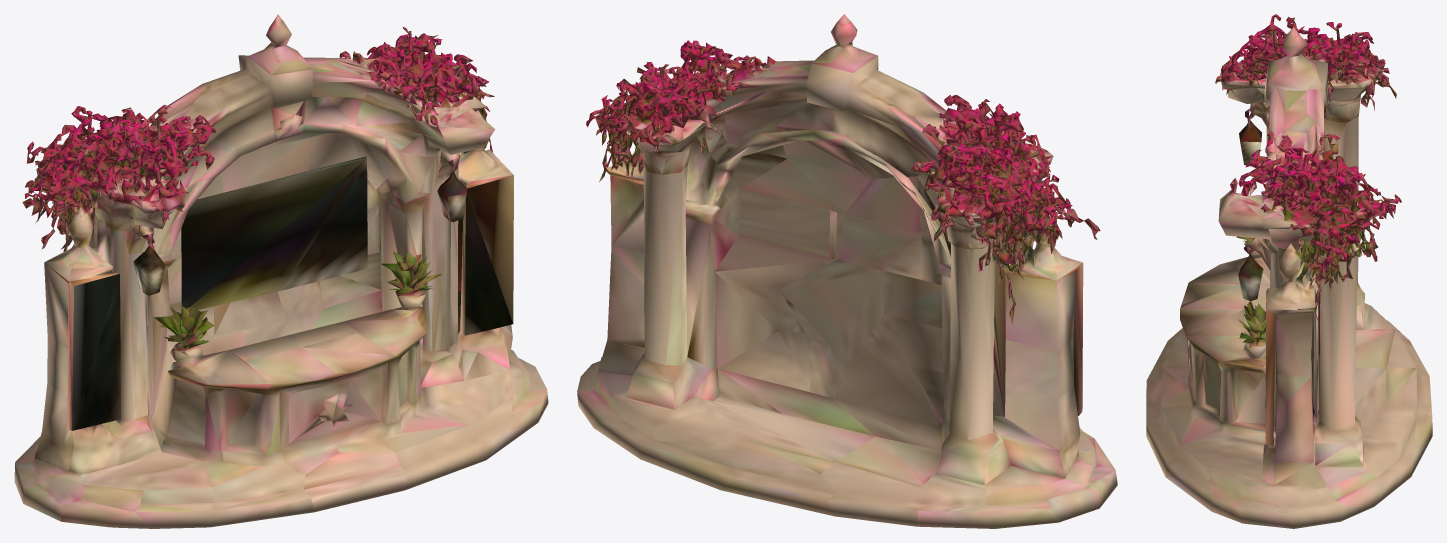
The model's file is stand-lejos.glb.
3 views of the same model, side by side, from view 1: azimuth 30°, elevation 25°; view 2: azimuth 150°, elevation 25°; view 3: azimuth 270°, elevation 25° (orthographic). The views are drawn at different scales.
Visible parts, largest first — view 1: Mesh_0; view 2: Mesh_0; view 3: Mesh_0.
Boxes of the visible parts, x1,y1,x2,y2 form: Mesh_0: [14, 14, 548, 528]; Mesh_0: [577, 14, 1117, 528]; Mesh_0: [1146, 14, 1432, 528].
Size of the model in its own units: 1.91 by 1.54 by 1.02.
Materials: 1 (1 with a texture image).
